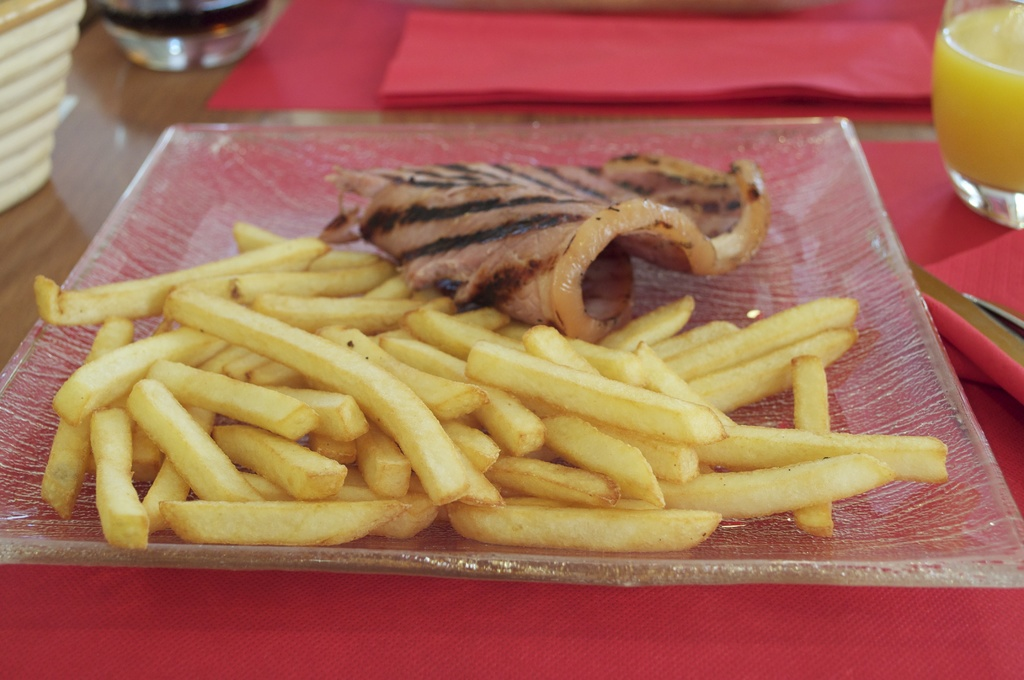French fries: (28, 217, 950, 556)
